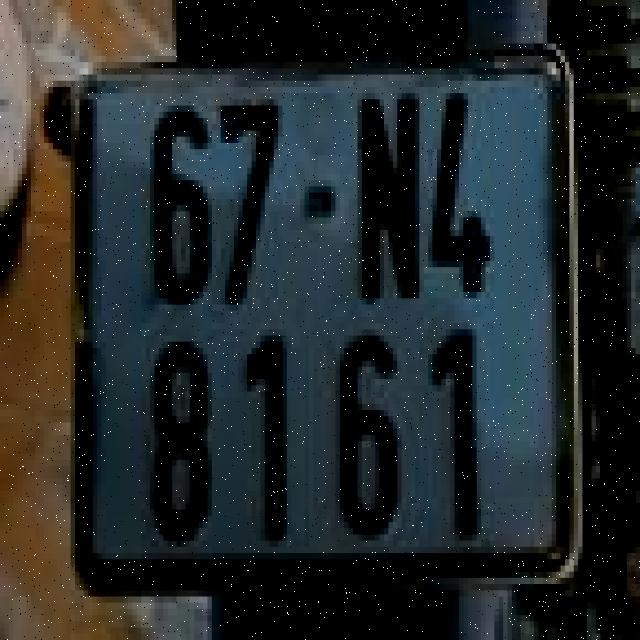1: (426, 317, 492, 547), (240, 326, 298, 550)
4: (426, 74, 496, 304)
6: (324, 323, 408, 541), (141, 93, 221, 311)
7: (216, 90, 287, 314)
8: (139, 323, 219, 547)
N: (351, 74, 426, 317)
